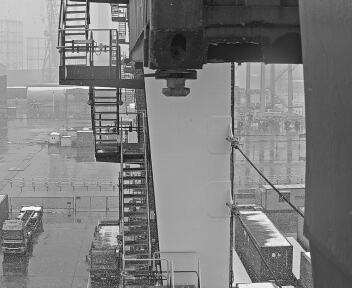twist_lock_1: (147, 62, 204, 101)
